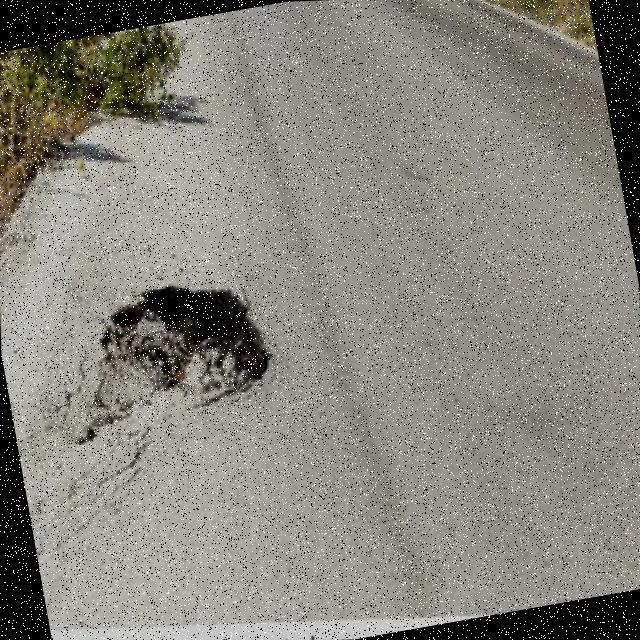Pothole: (70, 286, 272, 445)
